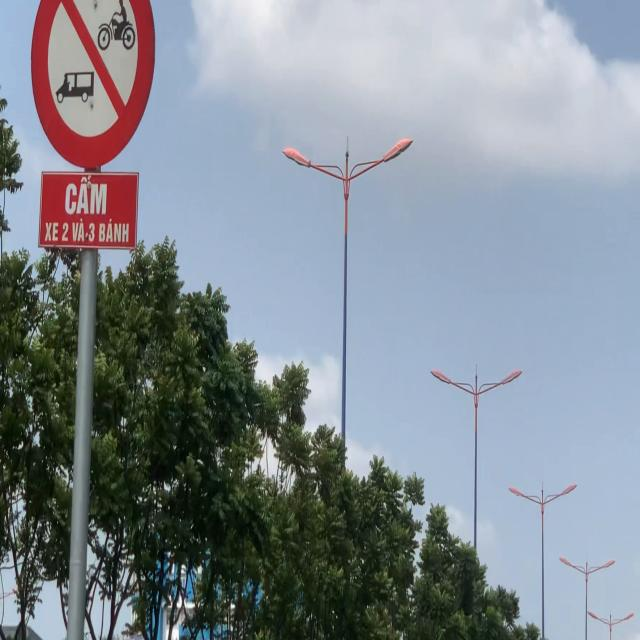Cam con lai: (29, 0, 157, 171)
